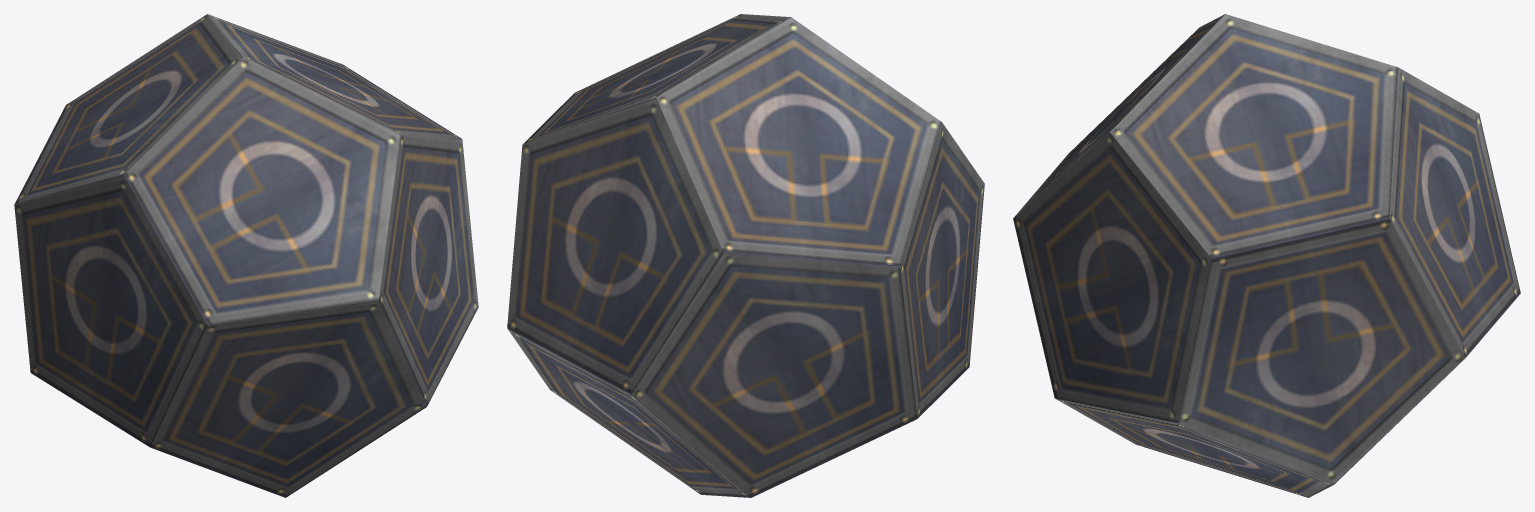
The model's file is cor1_prop_holocron_carried.fbx.
The picture shows the model from 3 angles, left to right: view 1: azimuth 30°, elevation 25°; view 2: azimuth 150°, elevation 25°; view 3: azimuth 270°, elevation 25°; orthographic projection. The views are drawn at different scales.
Visible parts, largest first — view 1: dodecahedron; view 2: dodecahedron; view 3: dodecahedron.
Boxes of the visible parts, <box> form: dodecahedron: <box>14,14,478,497</box>; dodecahedron: <box>507,14,984,497</box>; dodecahedron: <box>1013,14,1520,497</box>.
Bounding box in the file's own units: 0.2026 × 0.2234 × 0.2234.
